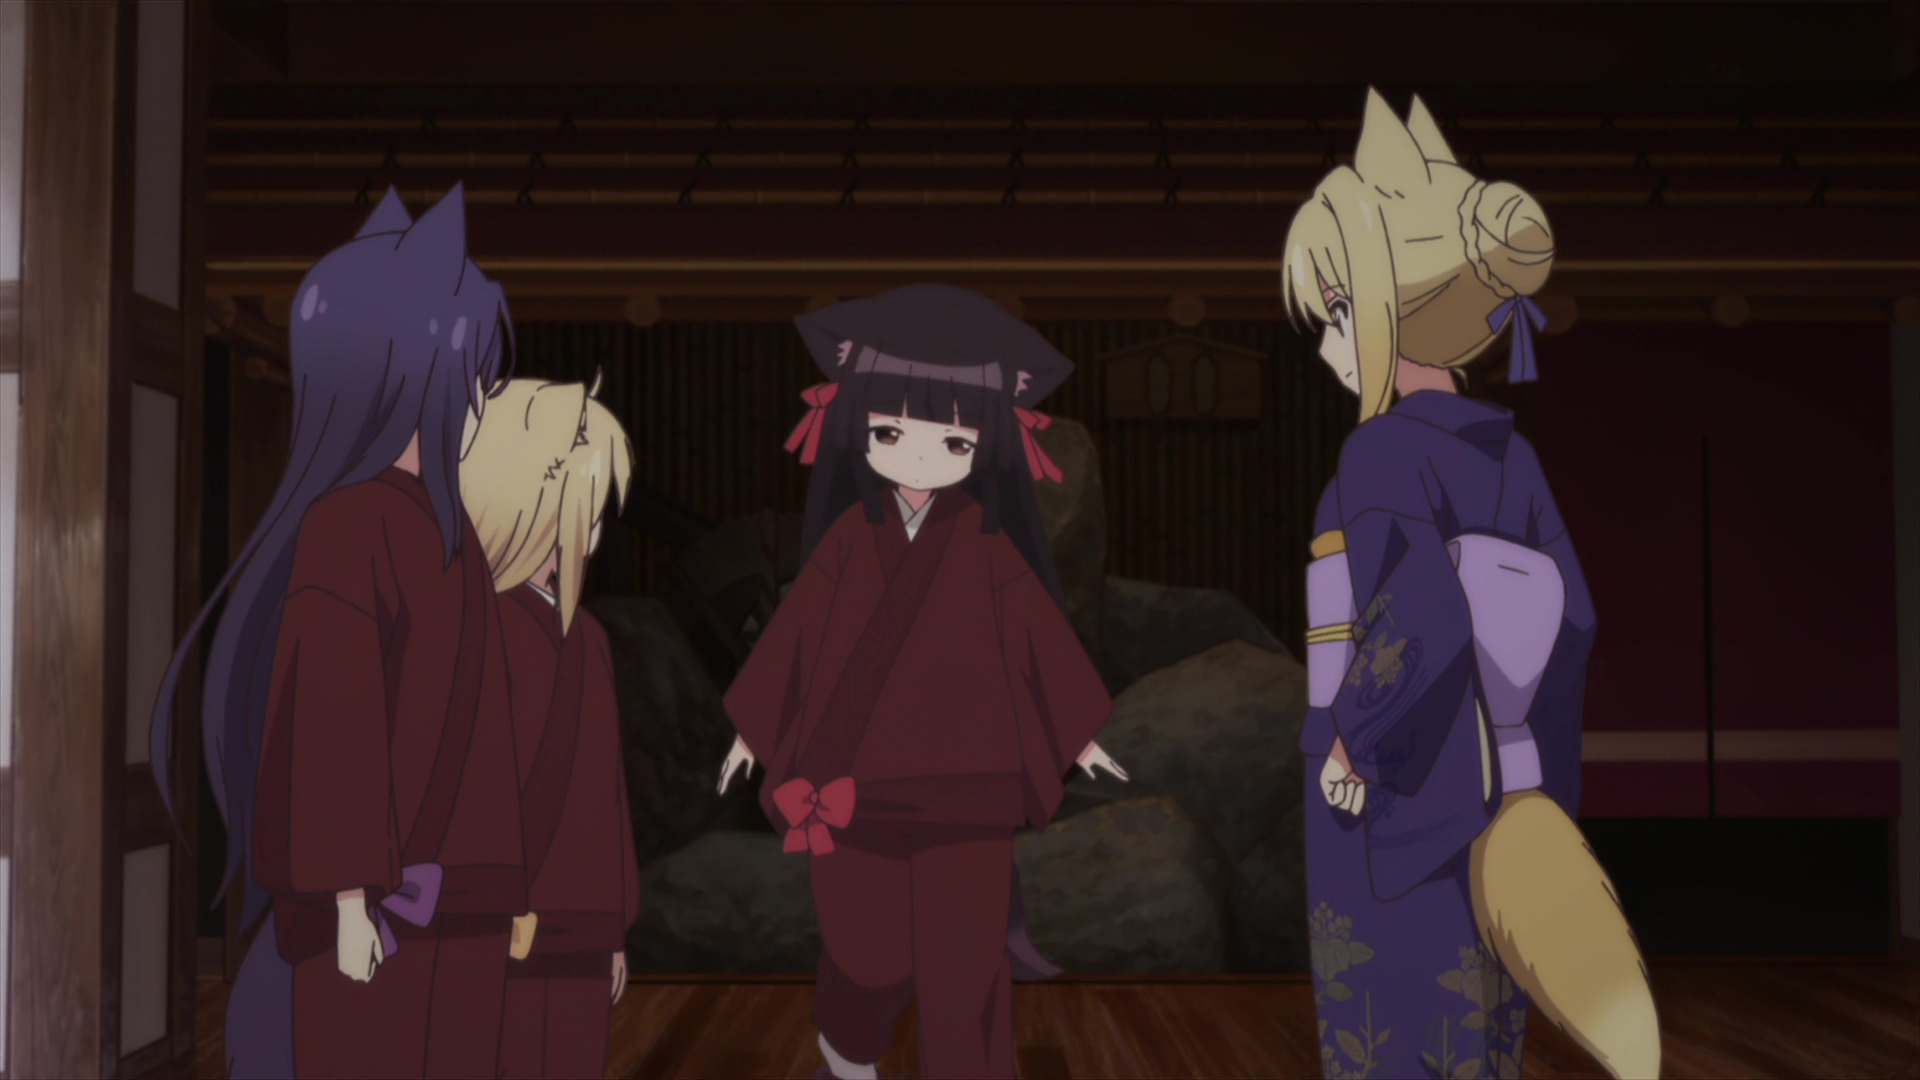柚: (458, 375, 634, 1080)
桐: (1280, 88, 1662, 1079)
樱: (719, 287, 1127, 1080)
皋: (149, 182, 518, 1080)
